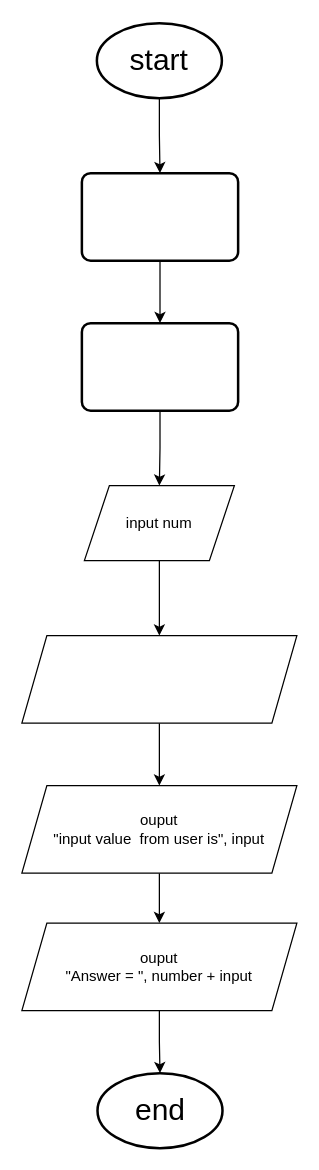
Some shapes in this 319 by 1170 pixel diagram are drawn without their labels. The box of each missing label's shape, as (x1, y1, x2, y2) in pixels:
file = fopen(a15-2.txt): (80, 171, 239, 261)
number = file: (80, 321, 239, 411)
ouput "read value to A is", number + input: (21, 634, 297, 723)
